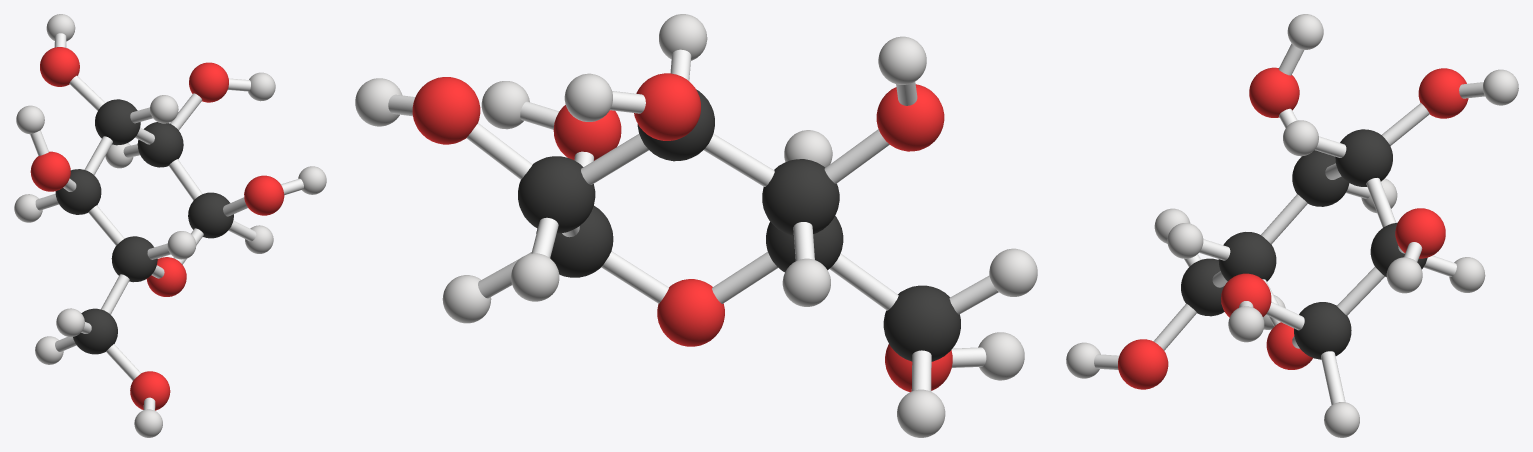
The model's file is putaotang_L.fbx.
3 renders of one model, left to right at view 1: azimuth 30°, elevation 25°; view 2: azimuth 150°, elevation 25°; view 3: azimuth 270°, elevation 25°, orthographic. The views are drawn at different scales.
Parts seen in each view (by area): view 1: 对象111, 对象144, 对象113, 对象114, 对象112, 对象110, 对象147, 对象150, 对象109, 对象108, 对象106, 对象107 (+20 smaller); view 2: 对象110, 对象112, 对象114, 对象108, 对象107, 对象109, 对象150, 对象144, 对象147, 对象111, 对象113, 对象116 (+27 smaller); view 3: 对象113, 对象144, 对象112, 对象111, 对象106, 对象150, 对象109, 对象110, 对象108, 对象147, 对象107, 对象114 (+20 smaller).
Part boxes in pixels (box(x1,y1,x2,y2)): 对象111: box(111, 236, 157, 282); 对象144: box(188, 192, 233, 238); 对象113: box(95, 99, 140, 145); 对象114: box(137, 122, 183, 167); 对象112: box(55, 169, 101, 214); 对象110: box(73, 308, 117, 354); 对象147: box(244, 175, 284, 215); 对象150: box(30, 151, 70, 191); 对象109: box(40, 47, 79, 86); 对象108: box(189, 62, 228, 102); 对象106: box(130, 371, 170, 410); 对象107: box(146, 257, 186, 296); 对象110: box(883, 285, 960, 361); 对象112: box(762, 159, 839, 235); 对象114: box(518, 156, 595, 233); 对象108: box(412, 77, 480, 144); 对象107: box(657, 279, 724, 346); 对象109: box(634, 73, 700, 140); 对象150: box(876, 84, 944, 151); 对象144: box(536, 205, 613, 277); 对象147: box(553, 105, 621, 160); 对象111: box(766, 216, 843, 272); 对象113: box(637, 89, 714, 161); 对象116: box(511, 253, 559, 301); 对象113: box(1335, 129, 1392, 186); 对象144: box(1294, 302, 1351, 359); 对象112: box(1292, 150, 1349, 206); 对象111: box(1218, 232, 1276, 281); 对象106: box(1118, 339, 1168, 389); 对象150: box(1249, 67, 1299, 117); 对象109: box(1418, 68, 1468, 118); 对象110: box(1181, 258, 1224, 316); 对象108: box(1395, 208, 1445, 258); 对象147: box(1221, 273, 1271, 317); 对象107: box(1266, 322, 1312, 369); 对象114: box(1370, 222, 1427, 276).
Size of the model in its own units: 87.37 by 76.23 by 88.49.
1 material, 1 textured.
